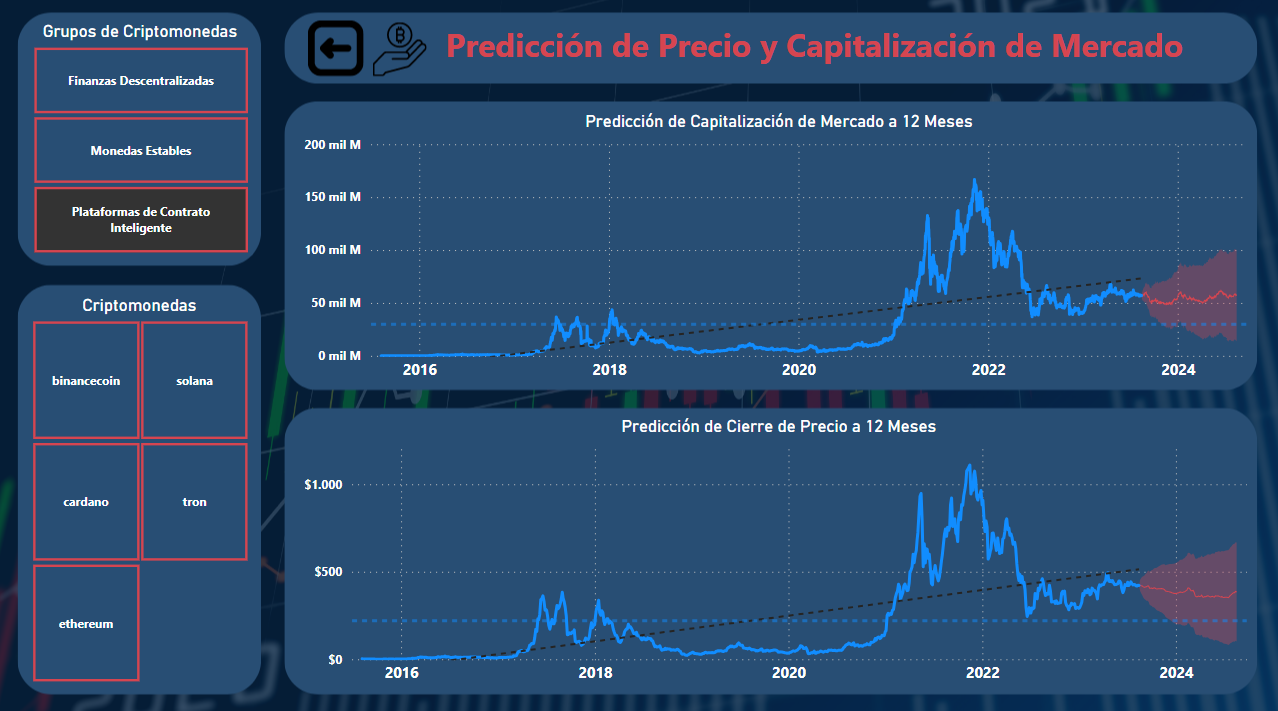

The dashboard page shown, as its layout file describes it:
{"tool":"powerbi","page":{"name":"Predicción 12 Meses","canvas":[1280,720],"ordinal":4},"visuals":[{"type":"lineChart","title":"Predicción de Capitalización de Mercado a 12 Meses","fields":{"Category":["combinado_completo.date"],"Y":["Avg(combinado_completo.market_caps)"]},"box":[300.6,115.6,959.4,278.8],"z":0},{"type":"lineChart","title":"Predicción de Cierre de Precio a 12 Meses","fields":{"Category":["combinado_completo.date"],"Y":["Avg(combinado_completo.close)"]},"box":[300.9,421.8,959.1,277.3],"z":1000},{"type":"textbox","box":[442.7,22.7,797.3,80.9],"z":2000},{"type":"slicer","title":"Grupos de Criptomonedas","fields":{"Values":["combinado_completo.Grupos de Criptomonedas"]},"box":[10,26.4,263.6,238.2],"z":3000},{"type":"slicer","title":"Criptomonedas","fields":{"Values":["combinado_completo.id"]},"box":[8.1,299.4,265,393.8],"z":4000},{"type":"actionButton","box":[308.3,22.9,58.6,48.4],"z":5000}]}

Visuals, with their boxes in screenshot pixels (x1, y1, x2, y2), scaled from the page's 1280x720 canvas onto the 1278x711 screenshot:
"Predicción de Capitalización de Mercado a 12 Meses" lineChart: l=300, t=114, r=1258, b=389
"Predicción de Cierre de Precio a 12 Meses" lineChart: l=300, t=417, r=1258, b=690
textbox: l=442, t=22, r=1238, b=102
"Grupos de Criptomonedas" slicer: l=10, t=26, r=273, b=261
"Criptomonedas" slicer: l=8, t=296, r=273, b=685
actionButton: l=308, t=23, r=366, b=70
